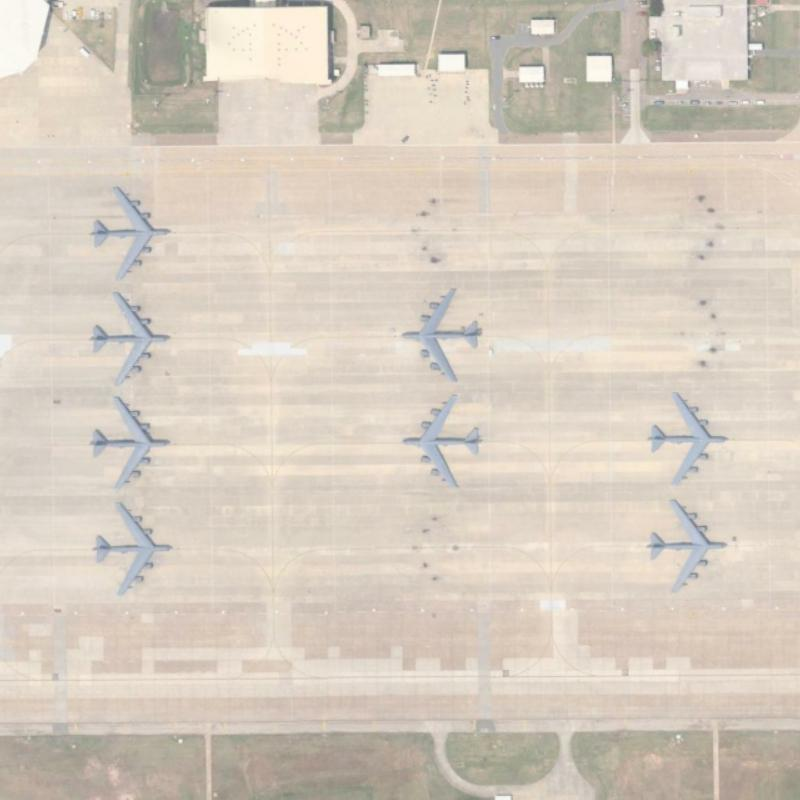A8: (83, 180, 173, 286), (88, 493, 176, 601), (642, 490, 729, 599), (395, 282, 487, 385), (81, 287, 174, 388), (84, 389, 174, 493), (395, 385, 483, 490), (645, 386, 728, 488)
